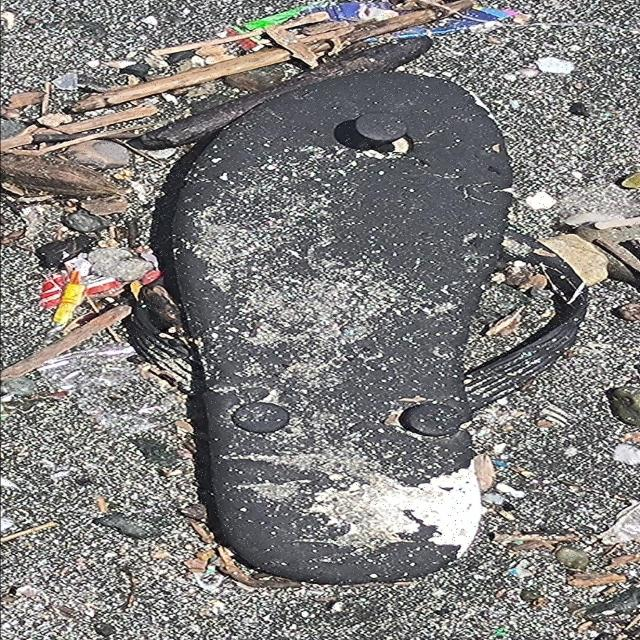rubber_waste: (170, 71, 586, 582)
